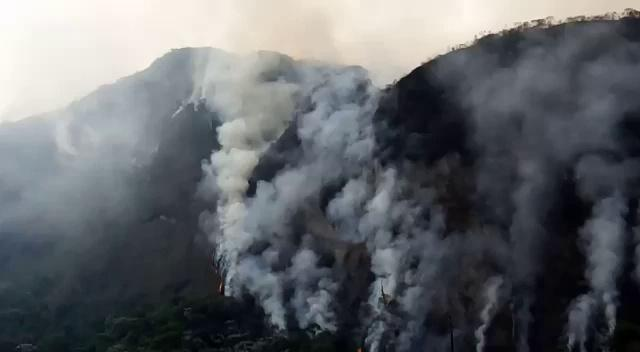smoke: (234, 194, 286, 274), (217, 82, 282, 130)
